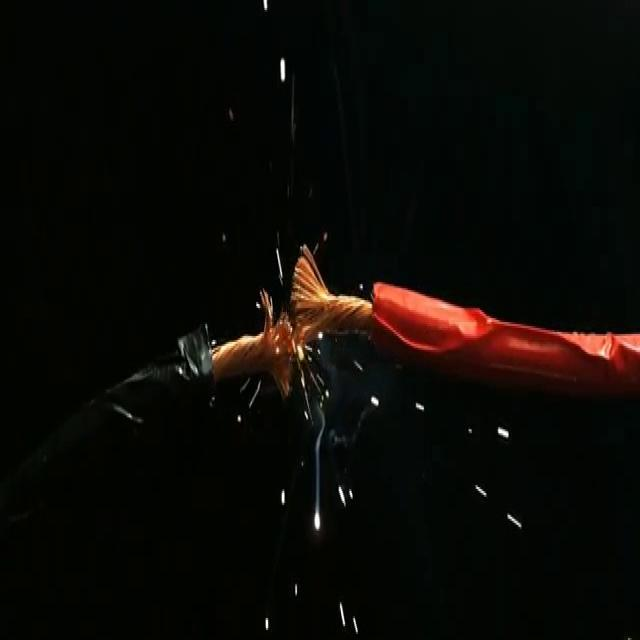fire: (268, 470, 368, 534), (269, 40, 293, 106)
